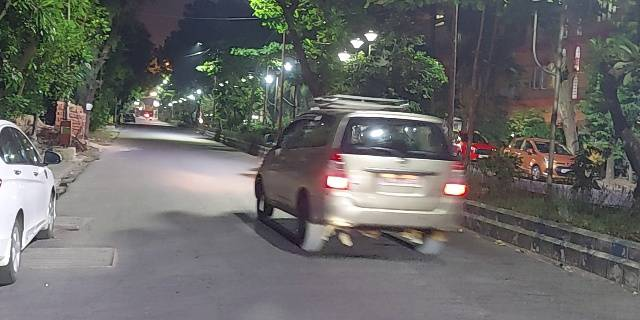Car: (253, 96, 467, 256)
